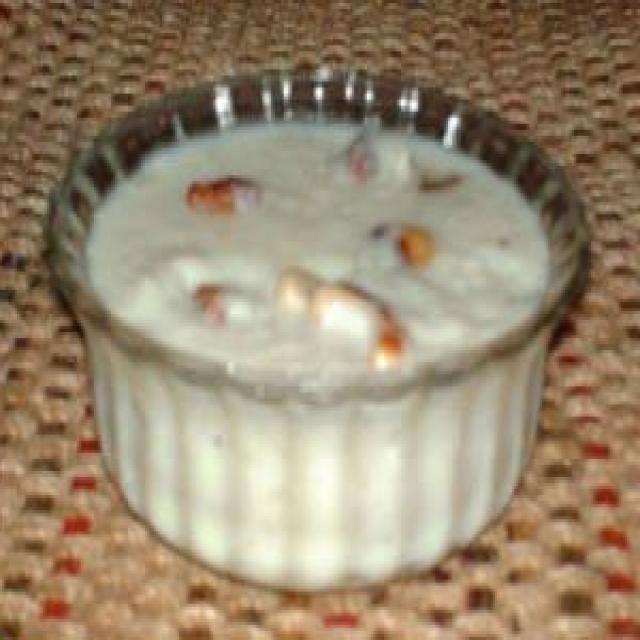Kheer: (74, 110, 552, 556)
